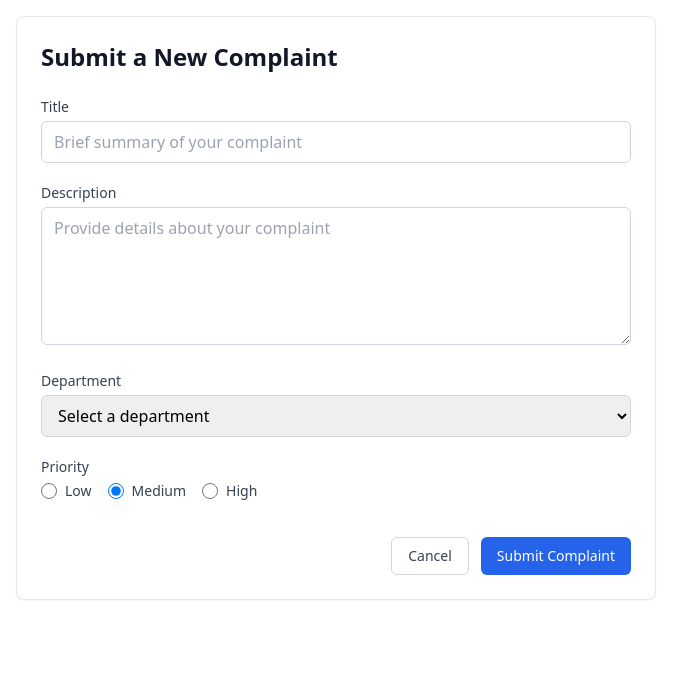
Test: Complaint Form Tests › should display validation errors for required fields
Click the button "Submit Complaint" at (556, 556), box [481,537,631,575]
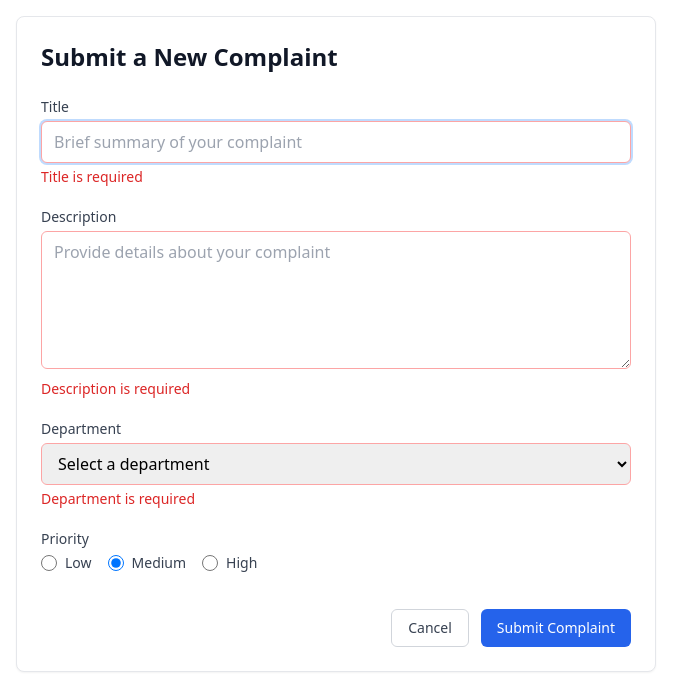
Now the text "Title is required" is shown, box [41,167,143,186]
Now the text "Description is required" is shown, box [41,379,190,398]
